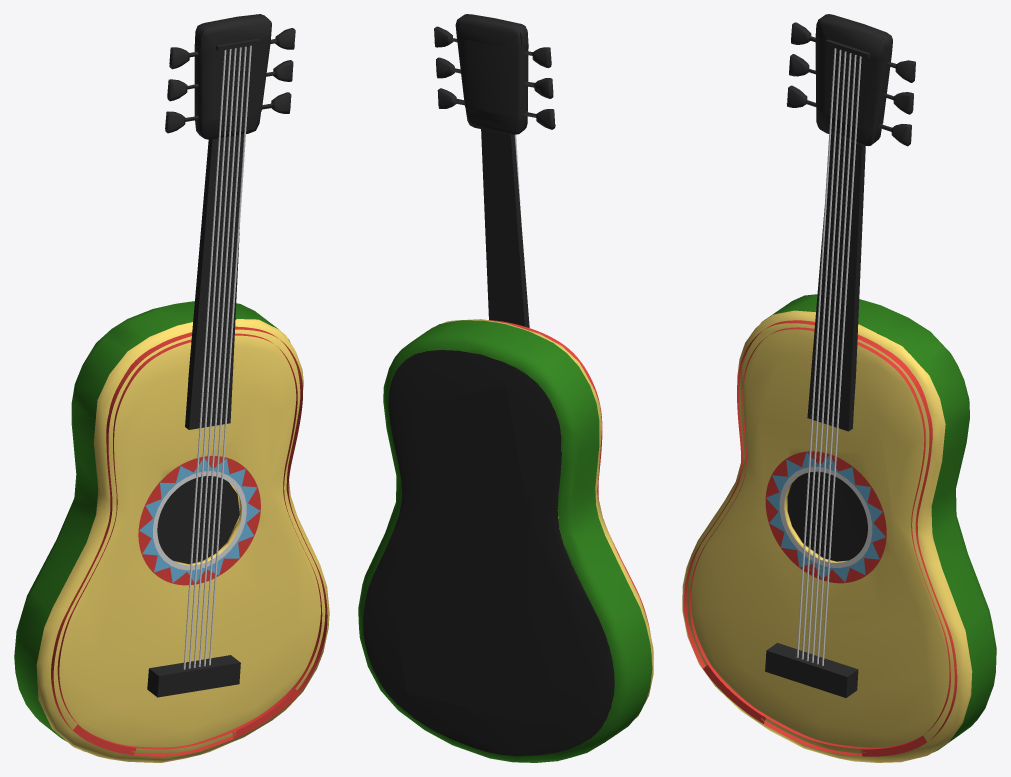
File: guitarra.glb
3 views of the same model, side by side, from view 1: azimuth 30°, elevation 25°; view 2: azimuth 150°, elevation 25°; view 3: azimuth 330°, elevation 25° (orthographic). The views are drawn at different scales.
Parts seen in each view (by area): view 1: Body, Strings; view 2: Body; view 3: Body, Strings.
Boxes of the visible parts, <box> form: Body: <box>14,14,329,762</box>; Strings: <box>183,45,251,669</box>; Body: <box>358,14,653,762</box>; Body: <box>682,14,996,762</box>; Strings: <box>796,48,861,665</box>.
Size of the model in its own units: 0.387 by 0.95 by 0.1176.
